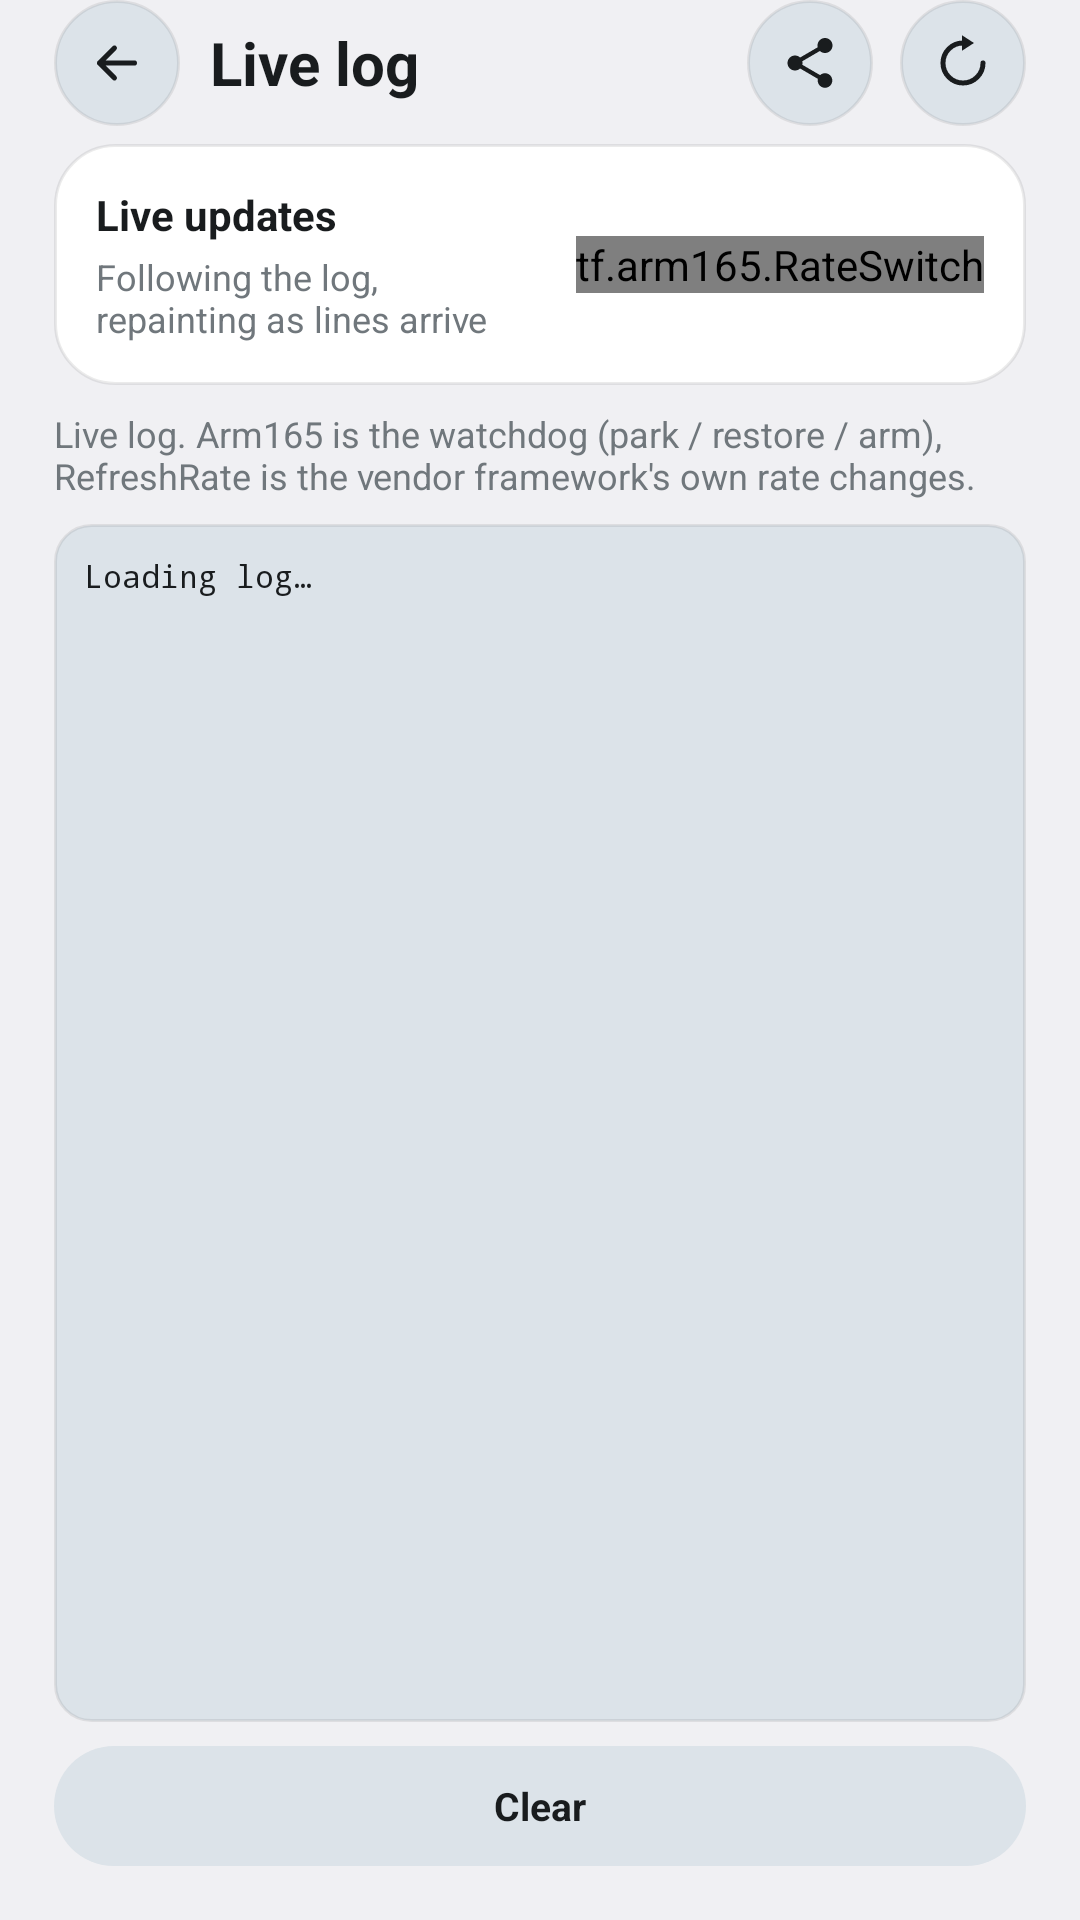

Icons on this 1080px×1920px Android screen, each with the point to tap as (x,y):
Back: (117,63)
Refresh log: (963,63)
Share log: (810,63)
